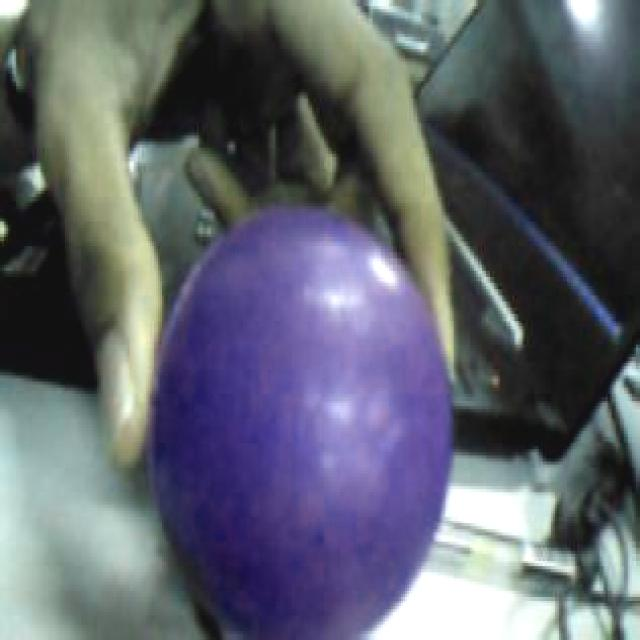BallPurple: (143, 200, 450, 640)
